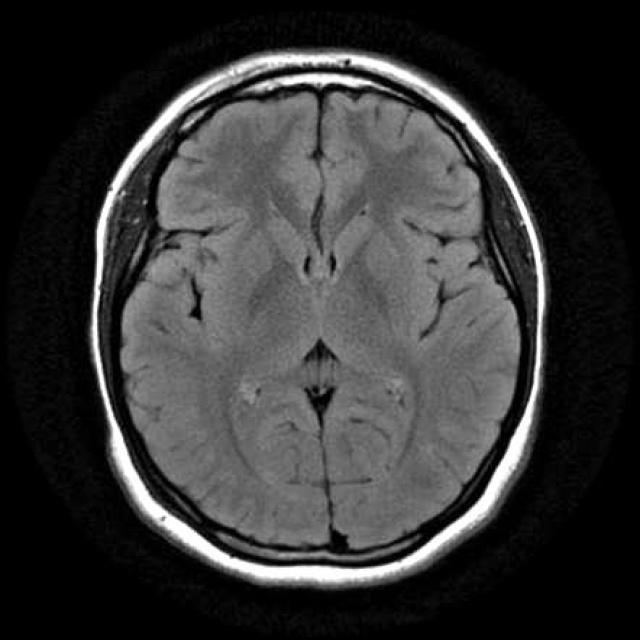notumor: (88, 52, 546, 589)
